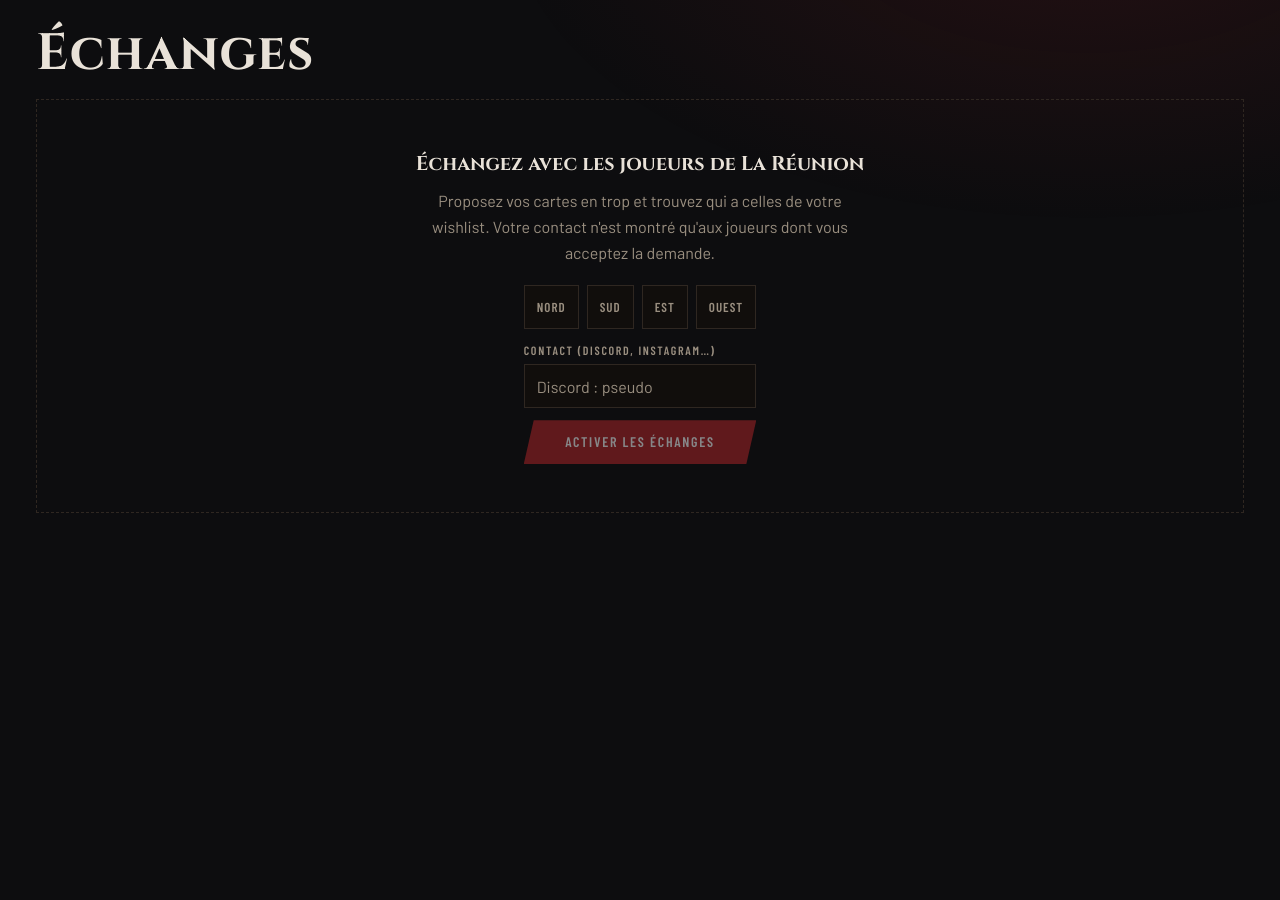
Test: TradesView › explique le principe et active les échanges depuis la page
Step 1. Click the radio button labelled "Sud" → (610, 307), box [587,285,634,329]
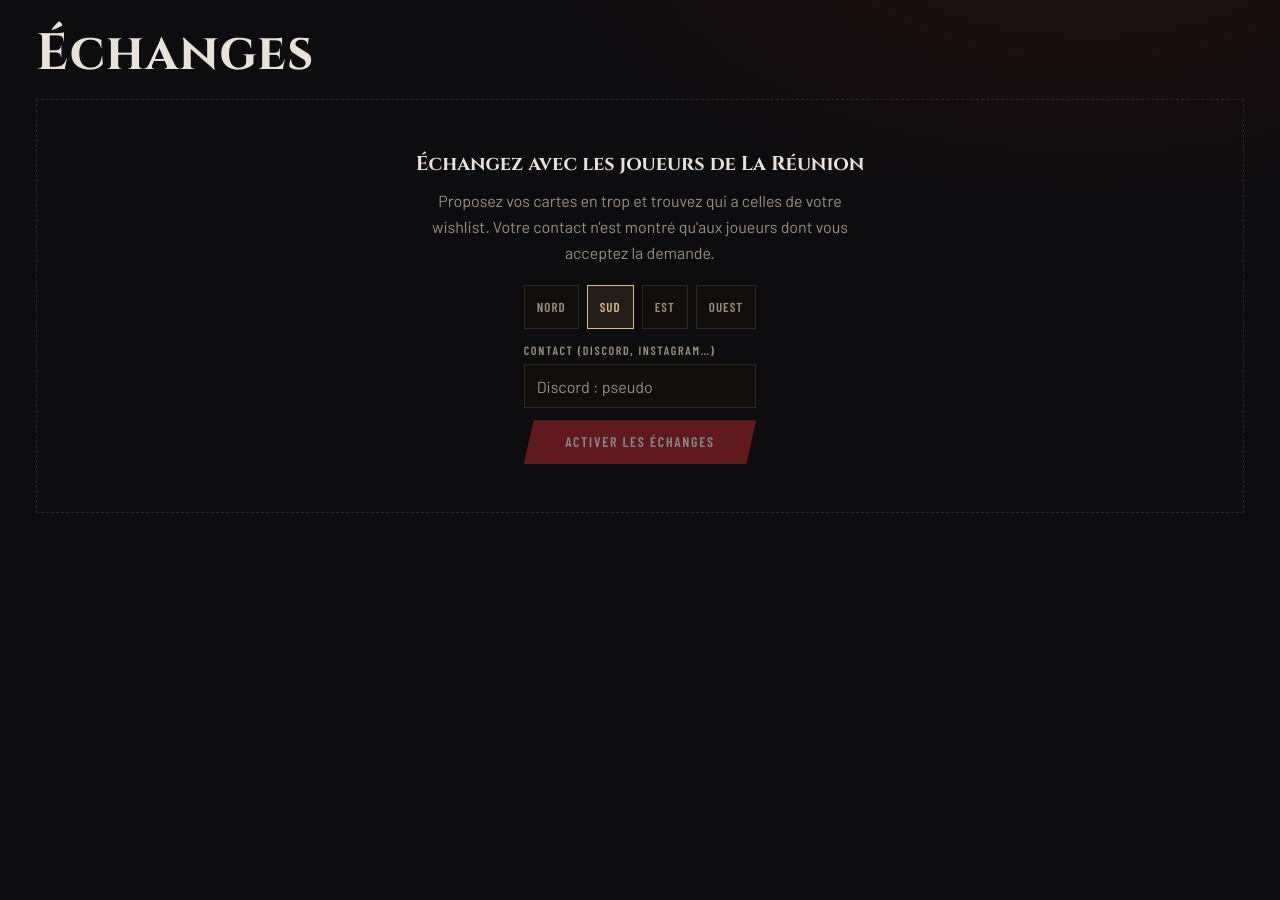
Step 2. Type "Discord : moi" into the field labelled "Contact (Discord, Instagram…)" → (640, 386), box [537,374,743,399]
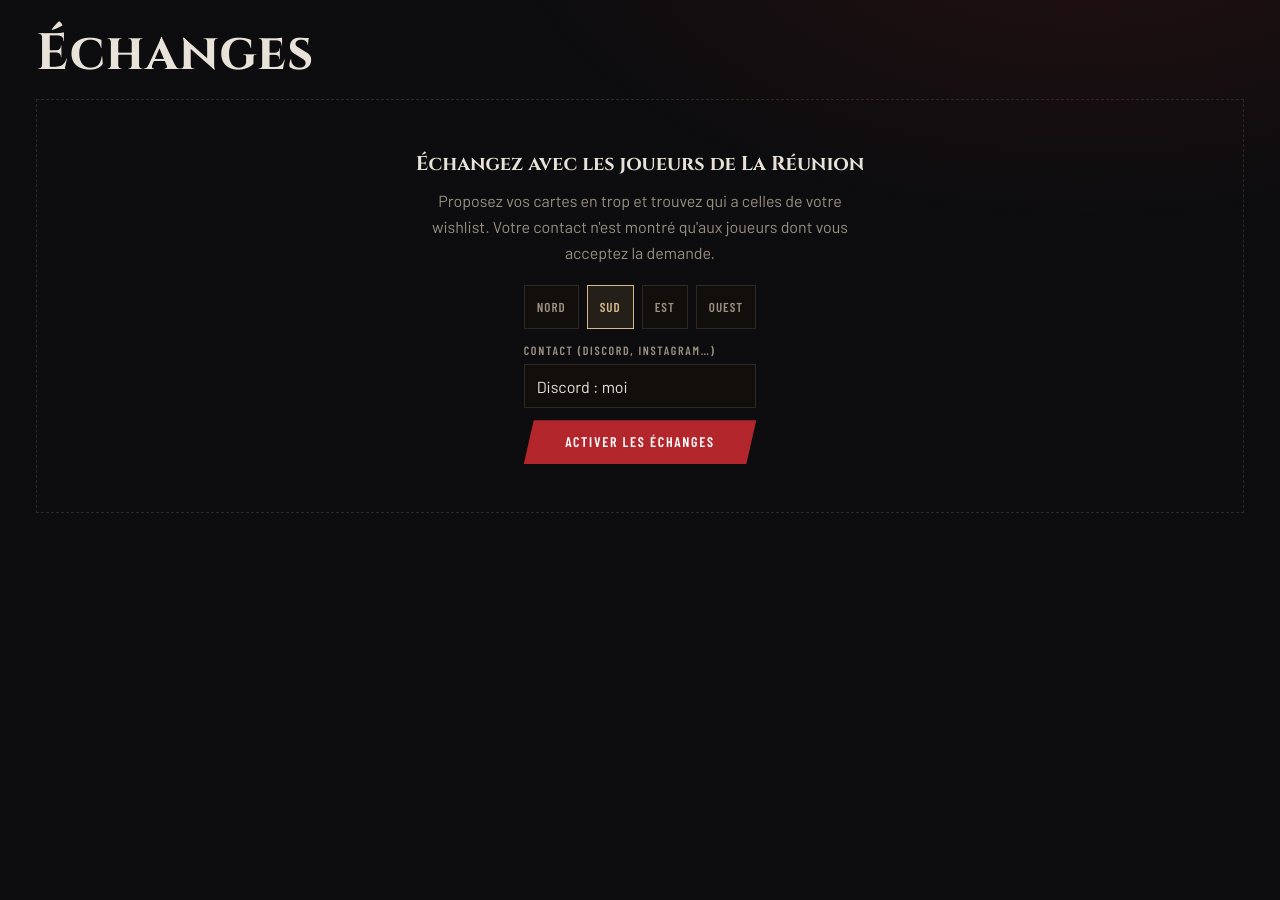
Step 3. Click the button "Activer les échanges" → (640, 442), box [524,420,756,464]
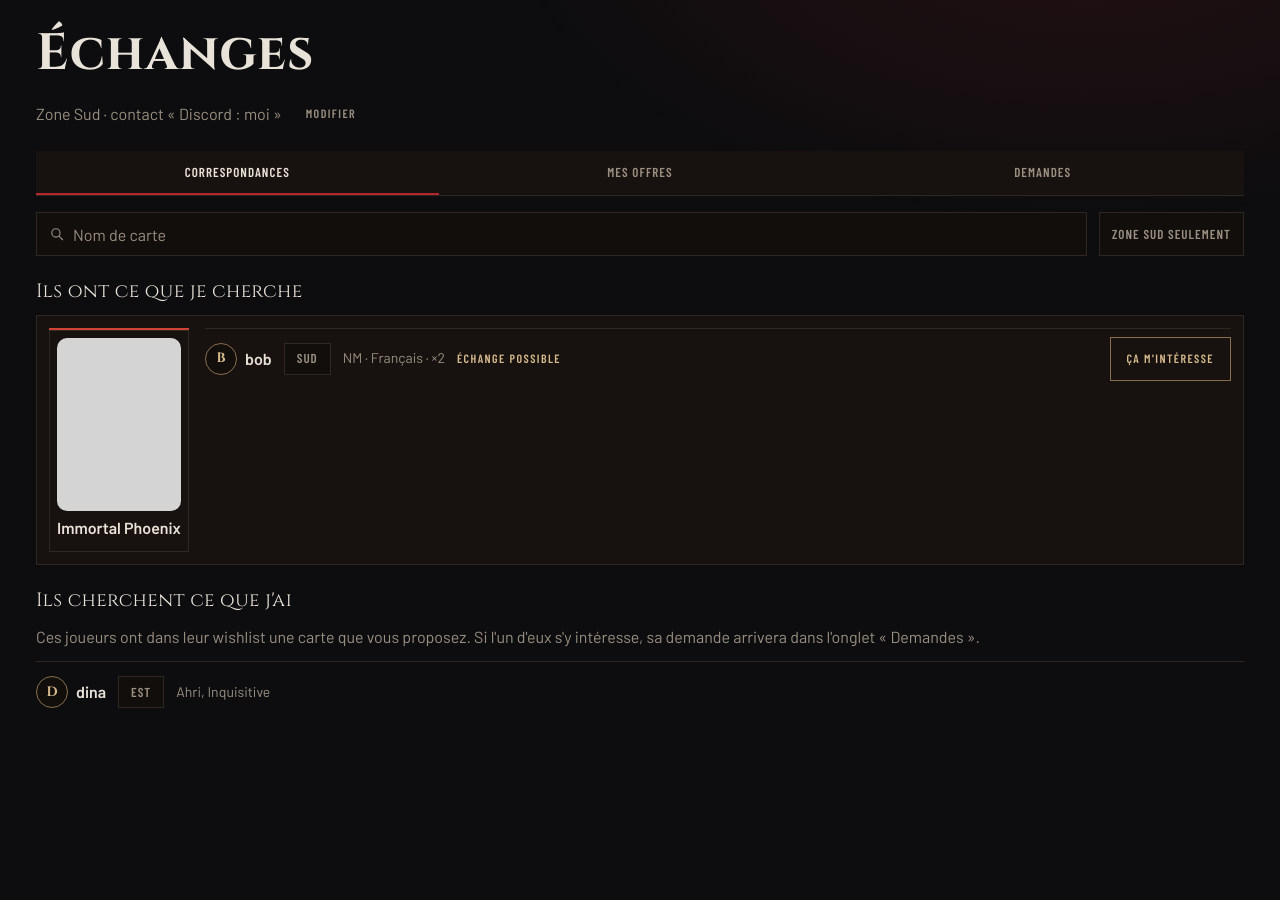
Result: the element with class "echanges-segments" is shown at [36,151,1244,196]
